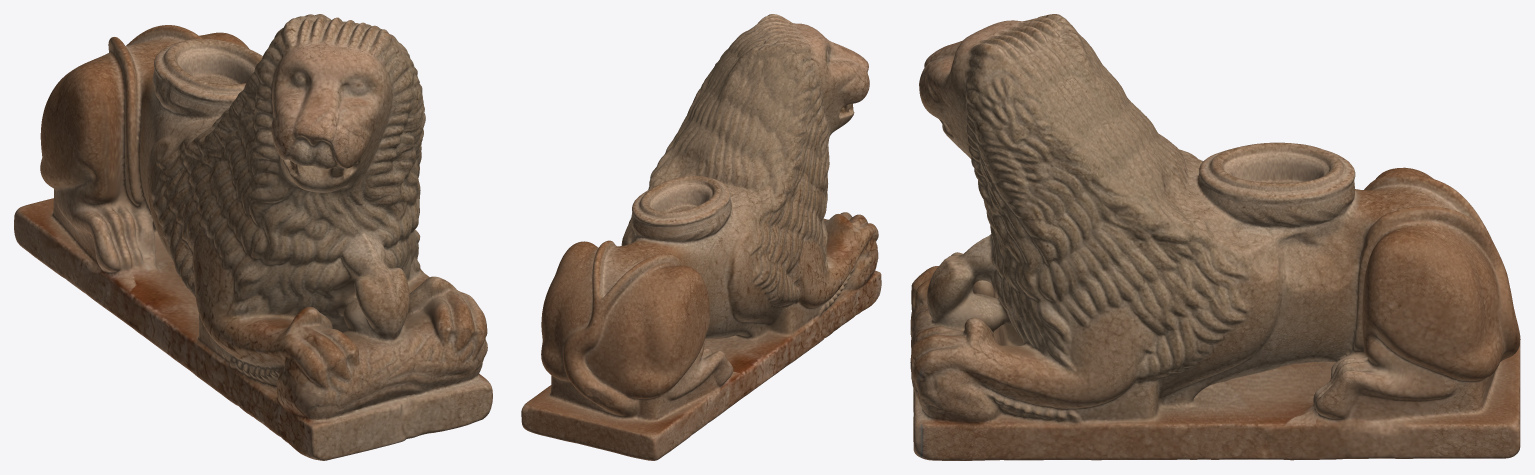
Rendered from Meshy_AI_Ancient_Lion_Guardian_1005154537_texture.fbx.
3 views of the same model, side by side, from view 1: azimuth 30°, elevation 25°; view 2: azimuth 150°, elevation 25°; view 3: azimuth 270°, elevation 25° (orthographic). The views are drawn at different scales.
Parts seen in each view (by area): view 1: Mesh_0; view 2: Mesh_0; view 3: Mesh_0.
Part boxes in pixels (left/top/right/bottom): Mesh_0: left=14, top=14, right=492, bottom=460; Mesh_0: left=521, top=14, right=881, bottom=460; Mesh_0: left=910, top=14, right=1520, bottom=460.
Size of the model in its own units: 75.34 by 133 by 190.
1 material, 1 textured.
